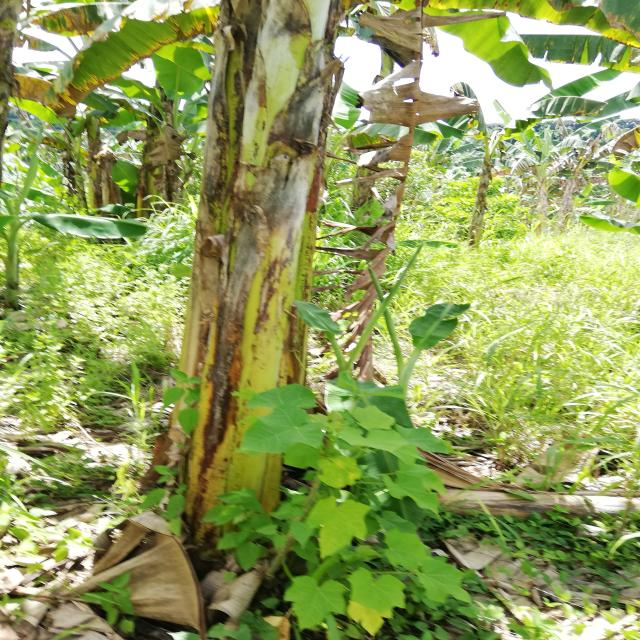Banana-plant: (117, 14, 356, 576)
